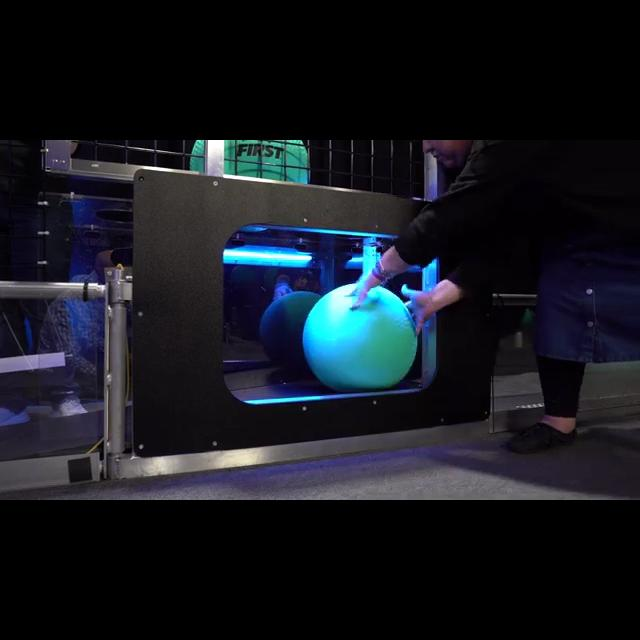ALGAE: (302, 281, 418, 391), (188, 140, 310, 186)
